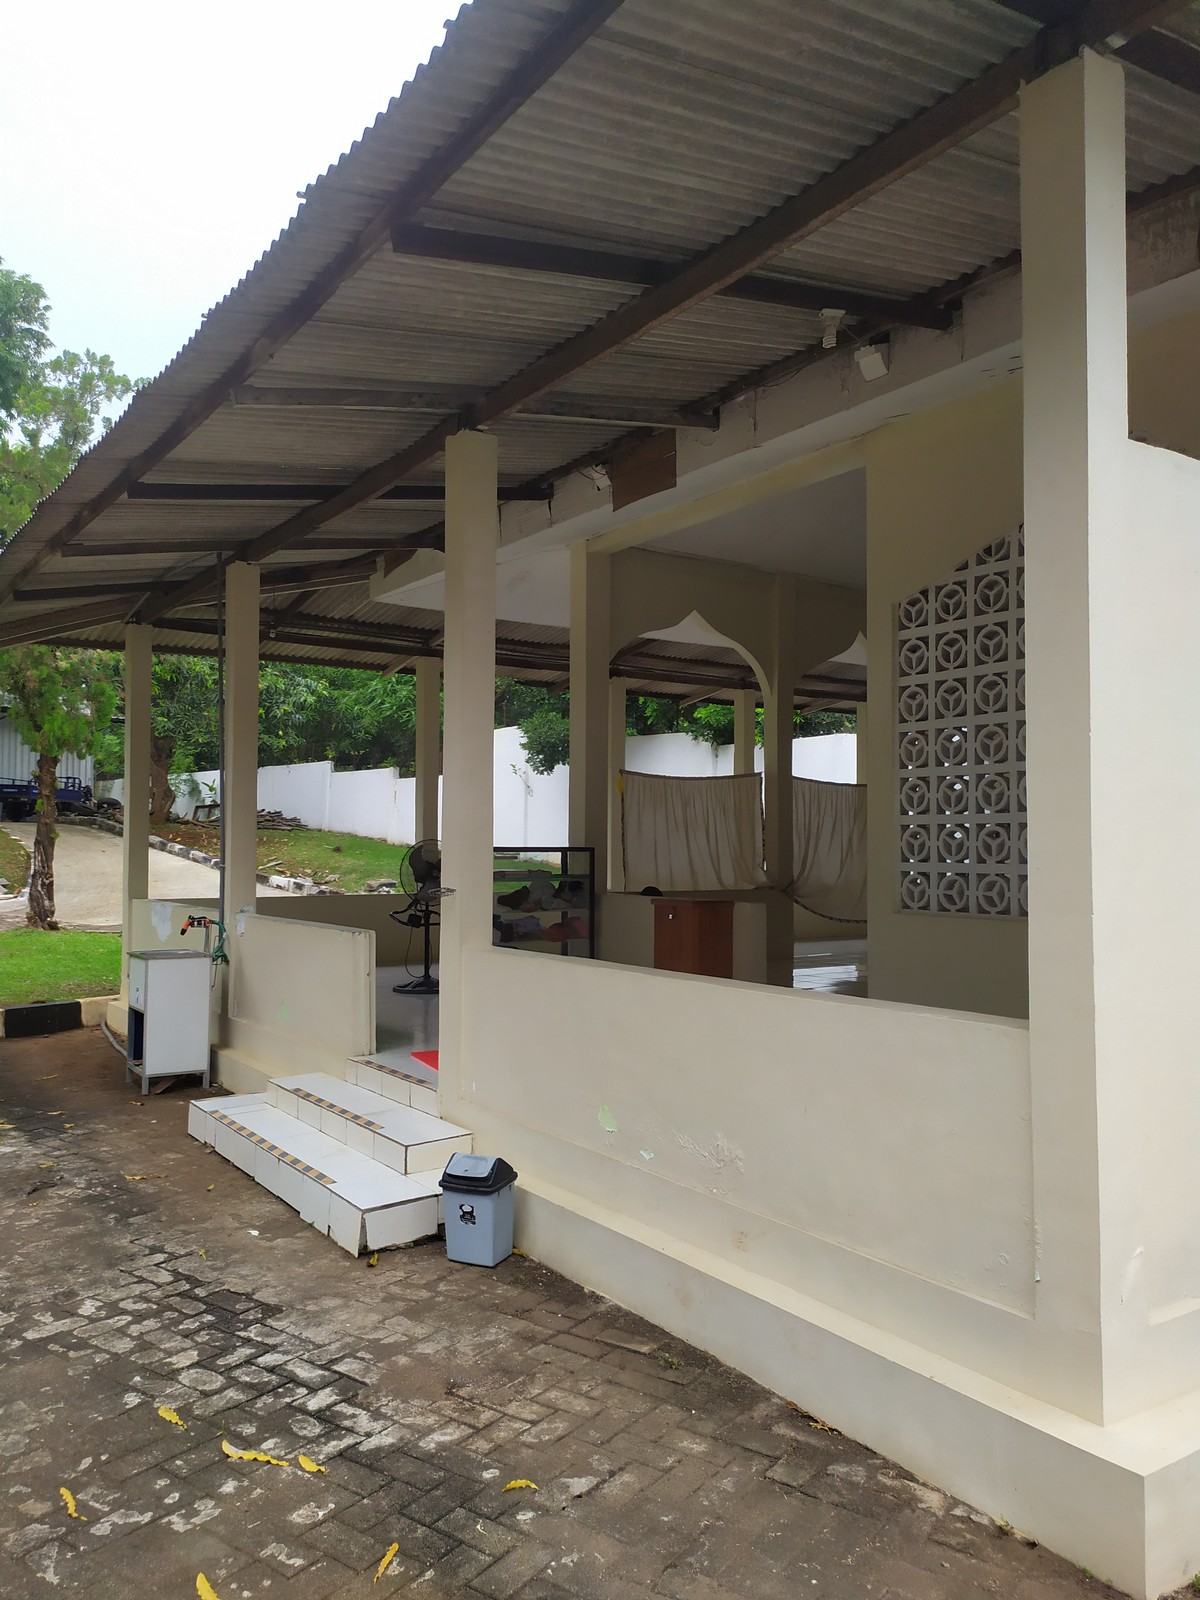concrete column: (1008, 43, 1151, 1353), (432, 425, 503, 1107), (218, 556, 263, 1026), (565, 539, 616, 888), (760, 577, 794, 952), (117, 615, 153, 957)
